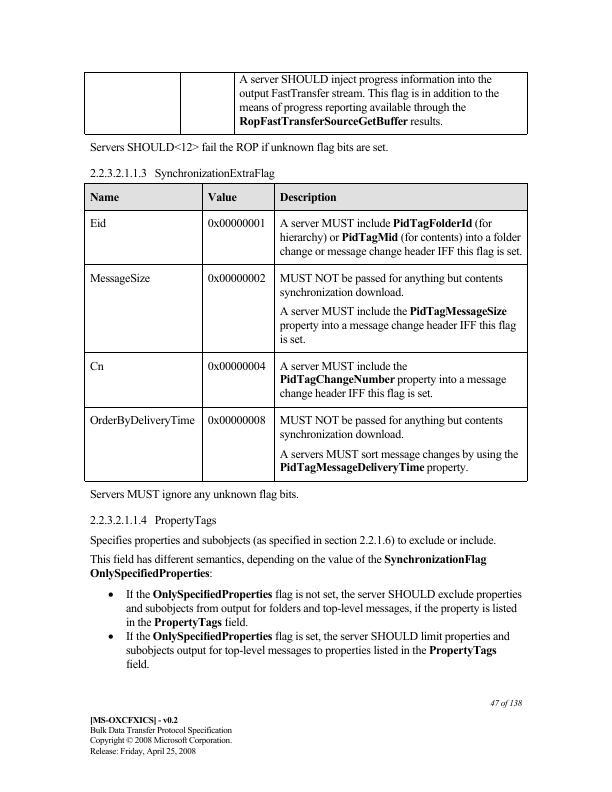table: (83, 184, 529, 484), (83, 70, 530, 137)
text: (121, 629, 513, 672), (123, 586, 524, 627), (87, 552, 490, 582), (85, 712, 234, 758), (87, 533, 497, 547), (86, 142, 392, 154), (86, 165, 276, 180), (86, 488, 299, 501), (83, 513, 218, 526), (487, 694, 524, 711)
